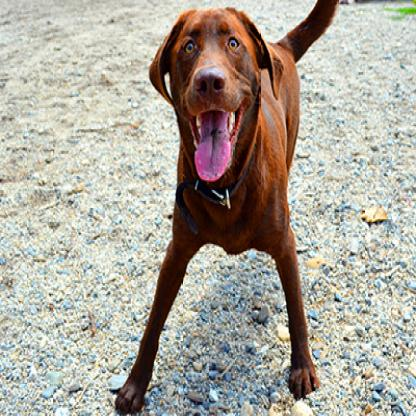dog: (121, 18, 339, 406)
